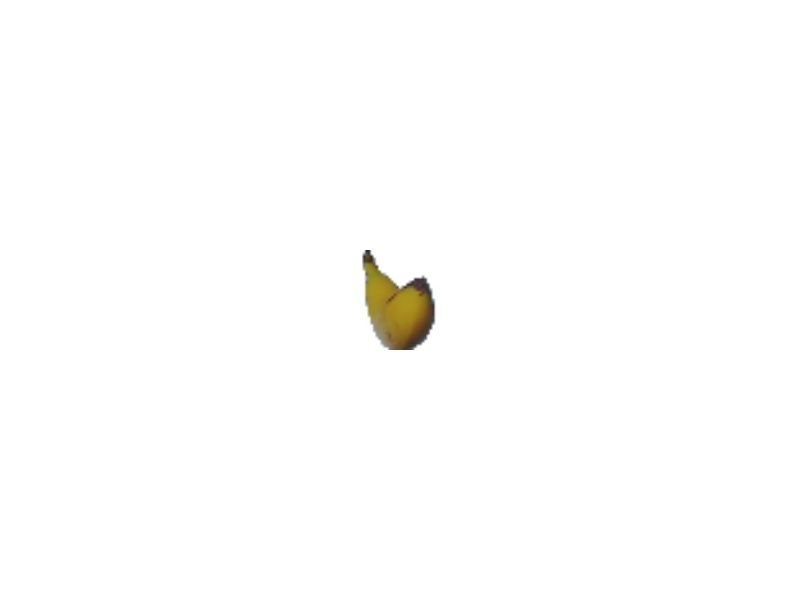banana: (359, 248, 439, 353)
